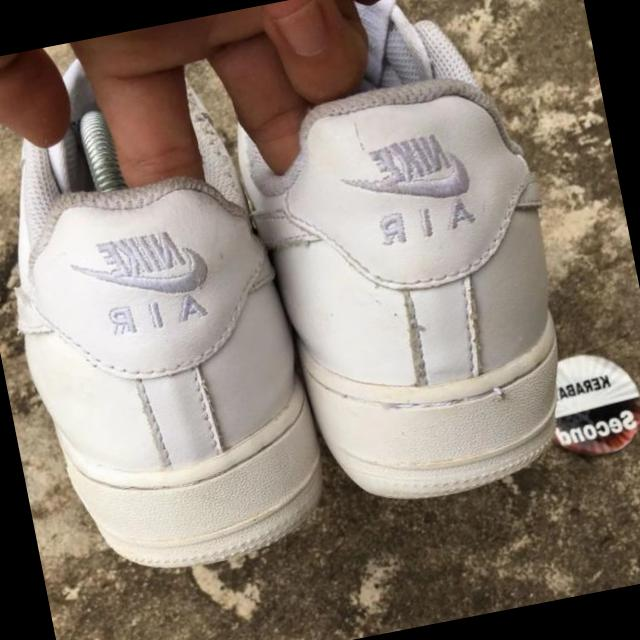nike_original_airforce: (207, 0, 596, 531), (0, 82, 346, 602)
